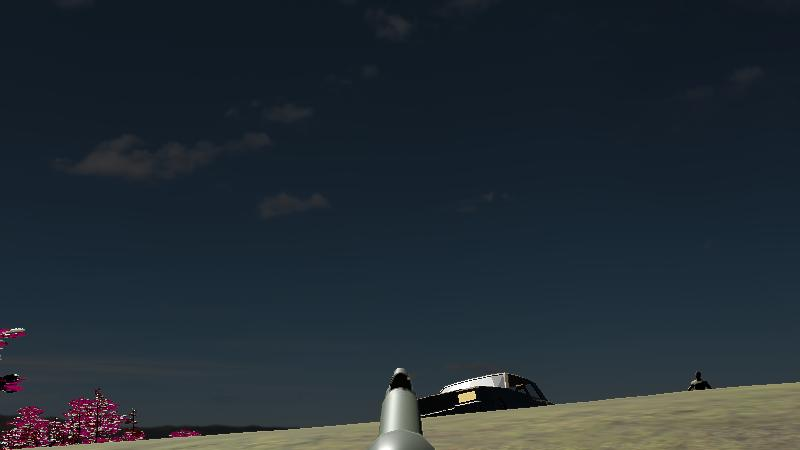Human: (685, 370, 714, 397)
car: (409, 364, 564, 429)
